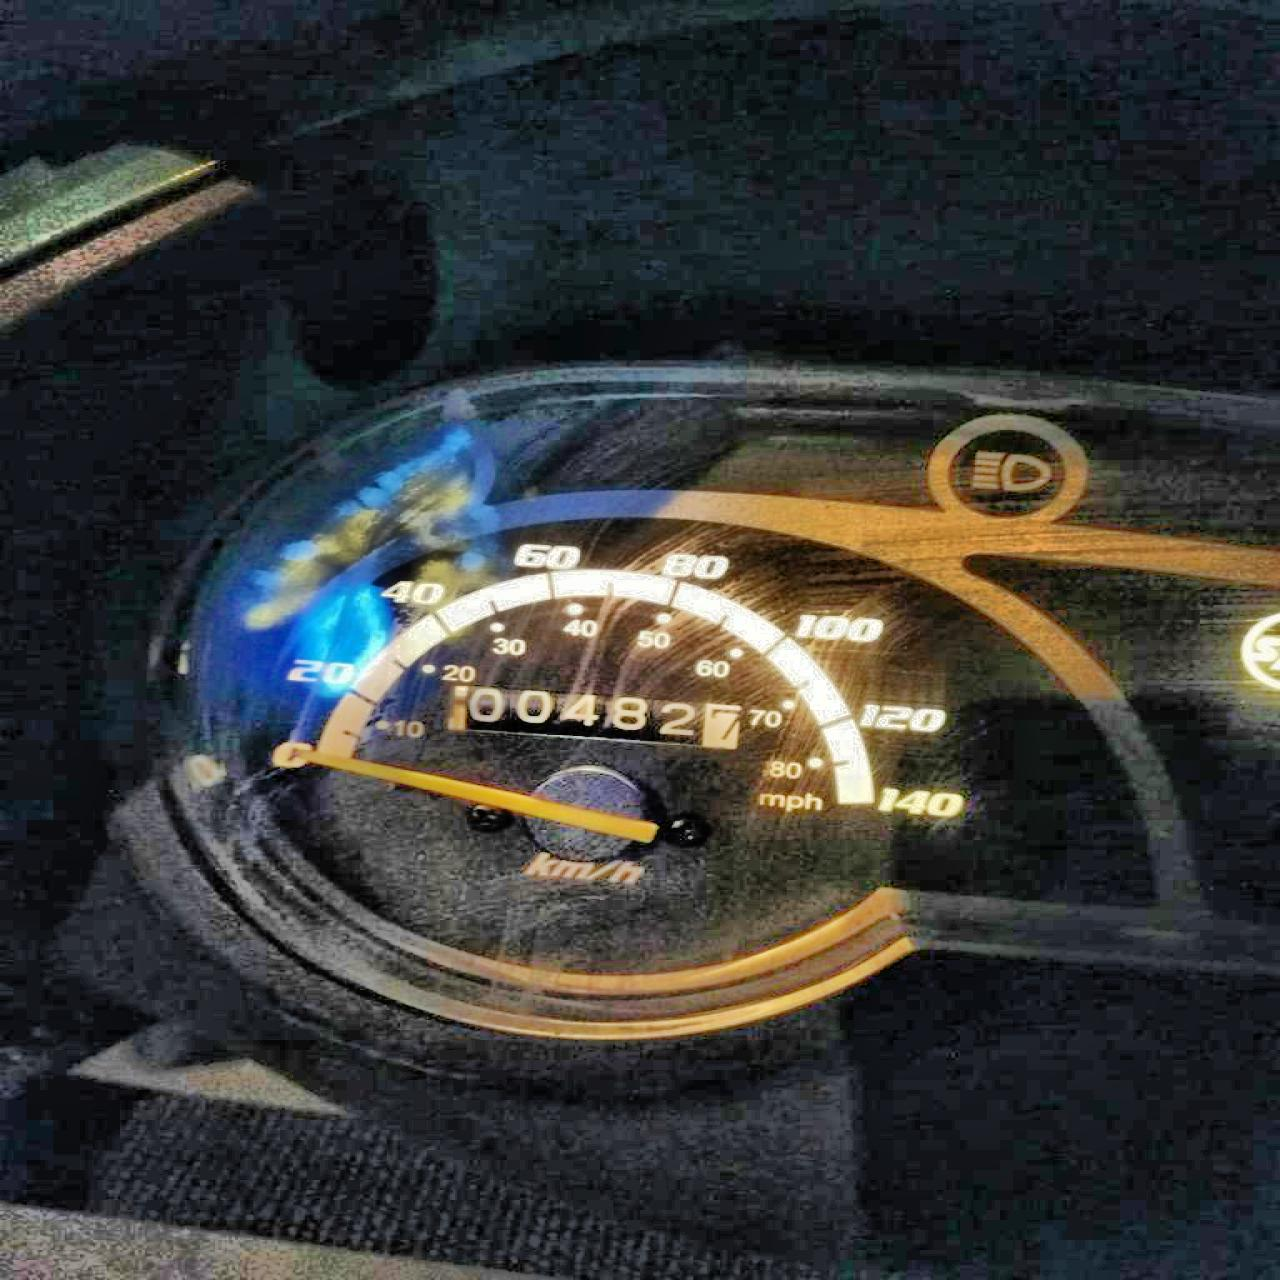0: (511, 685, 551, 726), (465, 683, 505, 722)
2: (655, 699, 696, 736)
4: (558, 690, 600, 726)
7: (707, 704, 743, 741)
8: (608, 693, 648, 733)
odometer: (434, 678, 750, 755)
